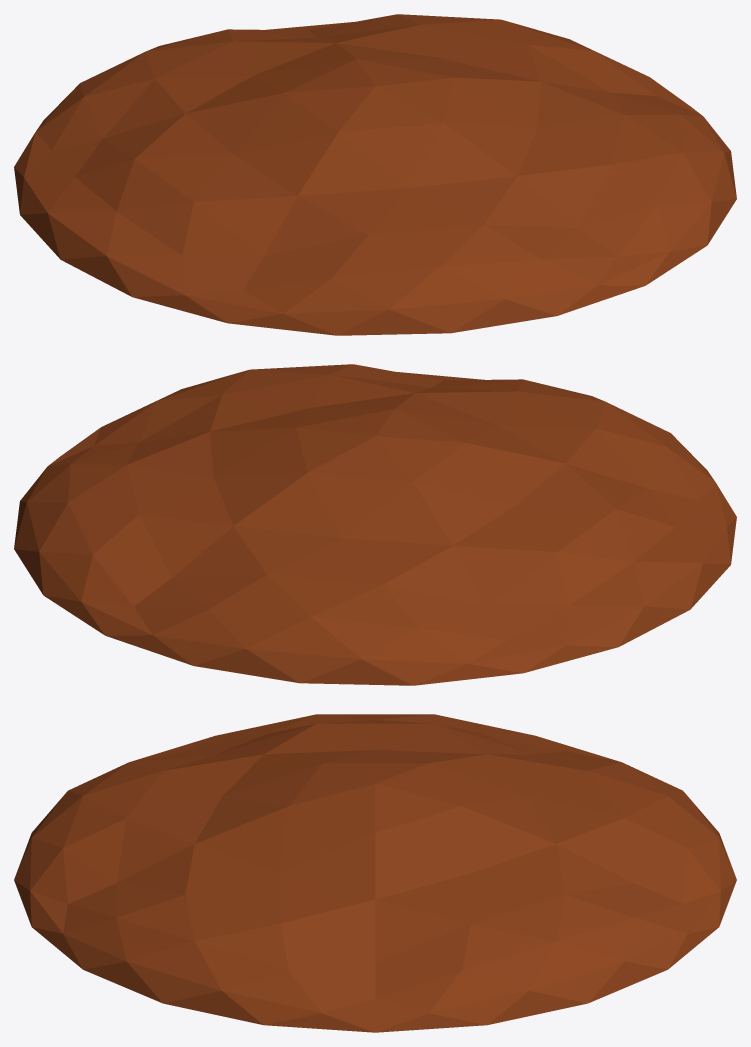
The model's file is Soil.fbx.
The picture shows the model from 3 angles, top to bottom: view 1: azimuth 30°, elevation 25°; view 2: azimuth 150°, elevation 25°; view 3: azimuth 270°, elevation 25°; orthographic projection.
Parts seen in each view (by area): view 1: FlowerSoil; view 2: FlowerSoil; view 3: FlowerSoil.
Part boxes in pixels (x1,y1,x2,y2): FlowerSoil: (14, 14, 736, 335); FlowerSoil: (14, 364, 736, 685); FlowerSoil: (14, 714, 736, 1032).
Bounding box in the file's own units: 800 × 117 × 800.
